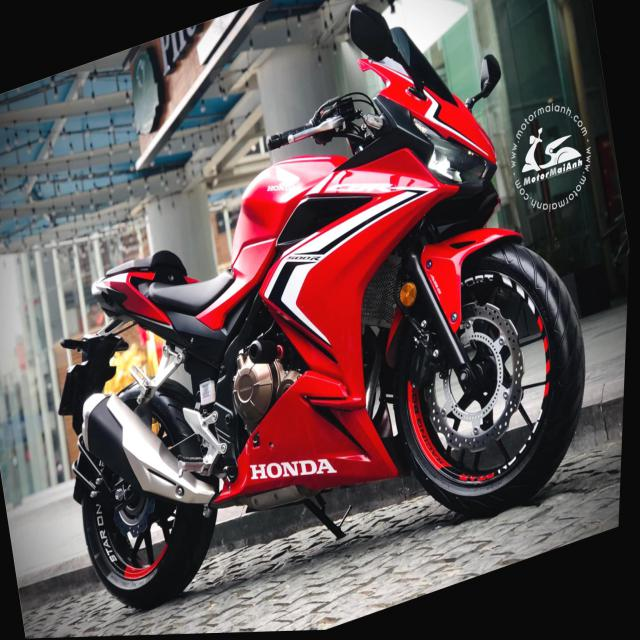CBR500R: (0, 0, 627, 639)
